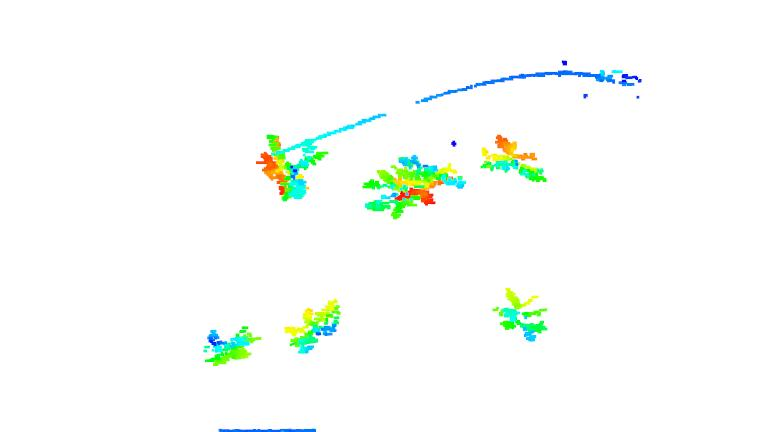chickpea: (357, 151, 471, 220), (253, 130, 330, 205), (279, 294, 347, 361), (476, 131, 550, 187), (490, 286, 549, 344), (195, 321, 263, 368)
